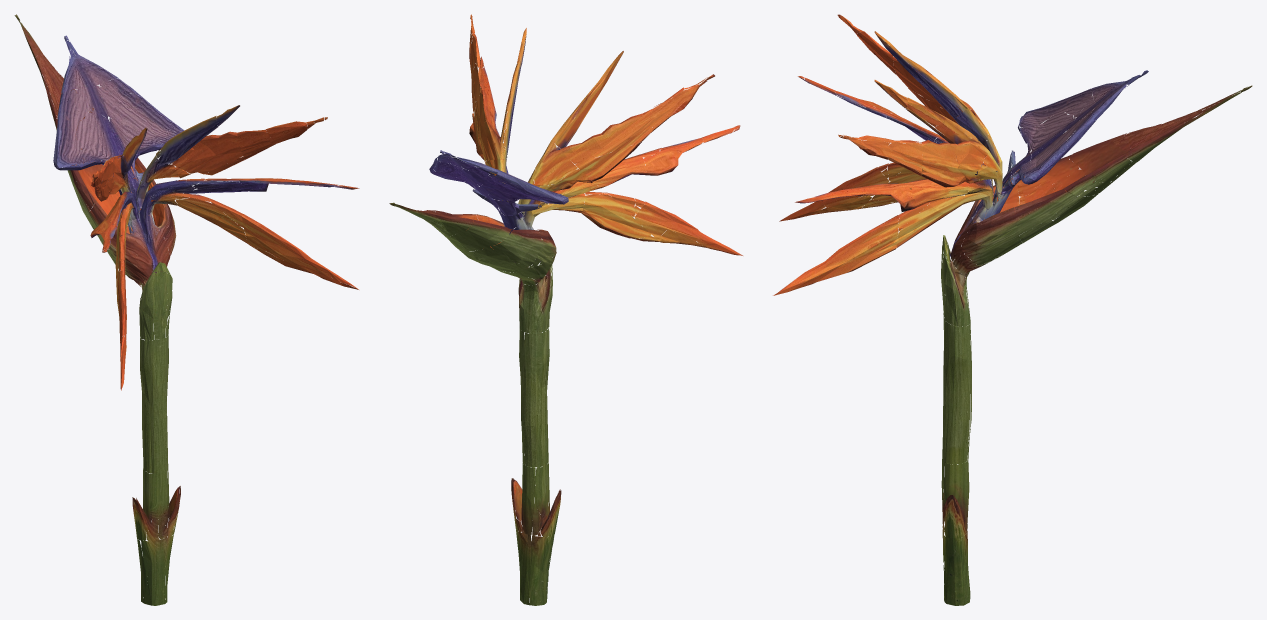
The model's file is flor_04_avedelparaiso.glb.
3 views of the same model, side by side, from view 1: azimuth 30°, elevation 25°; view 2: azimuth 150°, elevation 25°; view 3: azimuth 270°, elevation 25° (orthographic). The views are drawn at different scales.
Visible parts, largest first — view 1: tripo_node_d0cbfcbb-7de0-4179-914f-2de515f59074; view 2: tripo_node_d0cbfcbb-7de0-4179-914f-2de515f59074; view 3: tripo_node_d0cbfcbb-7de0-4179-914f-2de515f59074.
Part boxes in pixels (x1=…): tripo_node_d0cbfcbb-7de0-4179-914f-2de515f59074: x1=14, y1=14, x2=359, y2=605; tripo_node_d0cbfcbb-7de0-4179-914f-2de515f59074: x1=389, y1=14, x2=742, y2=605; tripo_node_d0cbfcbb-7de0-4179-914f-2de515f59074: x1=773, y1=14, x2=1252, y2=605.
Size of the model in its own units: 0.5046 by 0.9779 by 0.781.
1 material, 1 textured.
